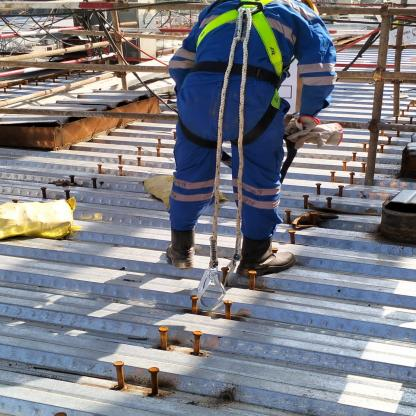bota: (233, 232, 302, 276), (157, 228, 201, 270)
